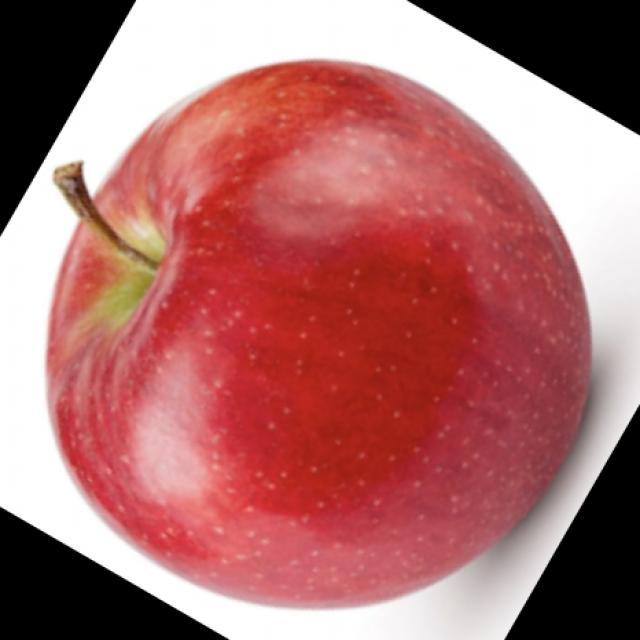Fresh Apple: (70, 69, 622, 608)
